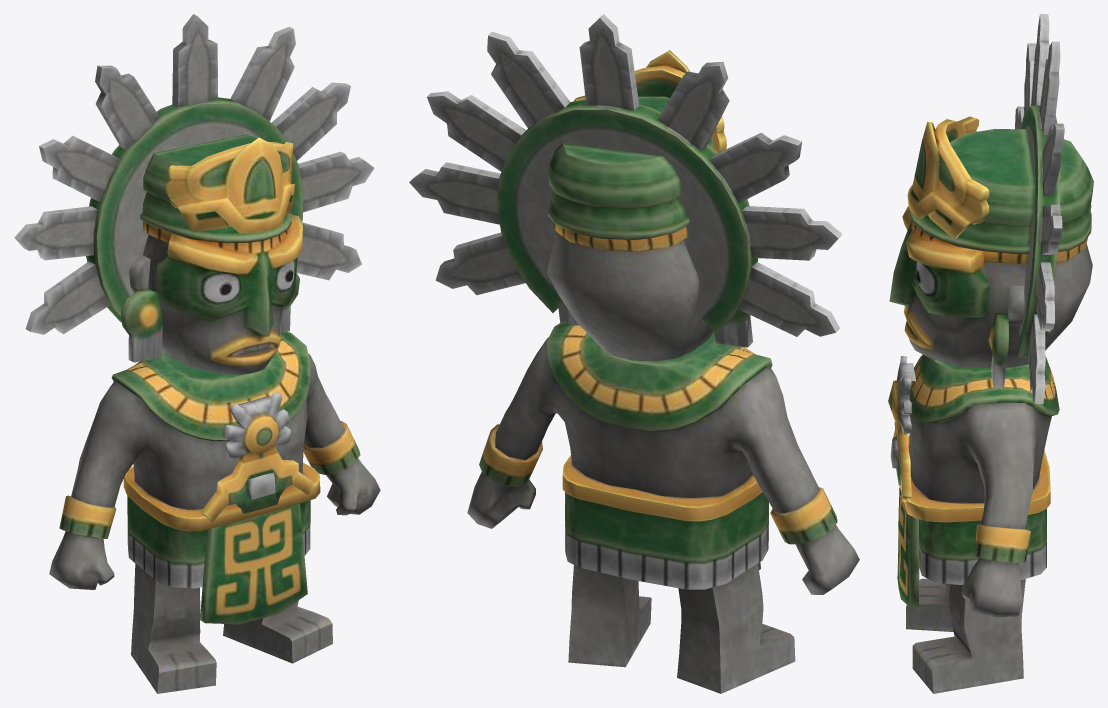
The model's file is 172-chaneque.glb.
The picture shows the model from 3 angles, left to right: view 1: azimuth 30°, elevation 25°; view 2: azimuth 150°, elevation 25°; view 3: azimuth 270°, elevation 25°; orthographic projection. The views are drawn at different scales.
Bounding box in the file's own units: 1.03 × 1.59 × 0.4846.
1 material, 1 textured.
